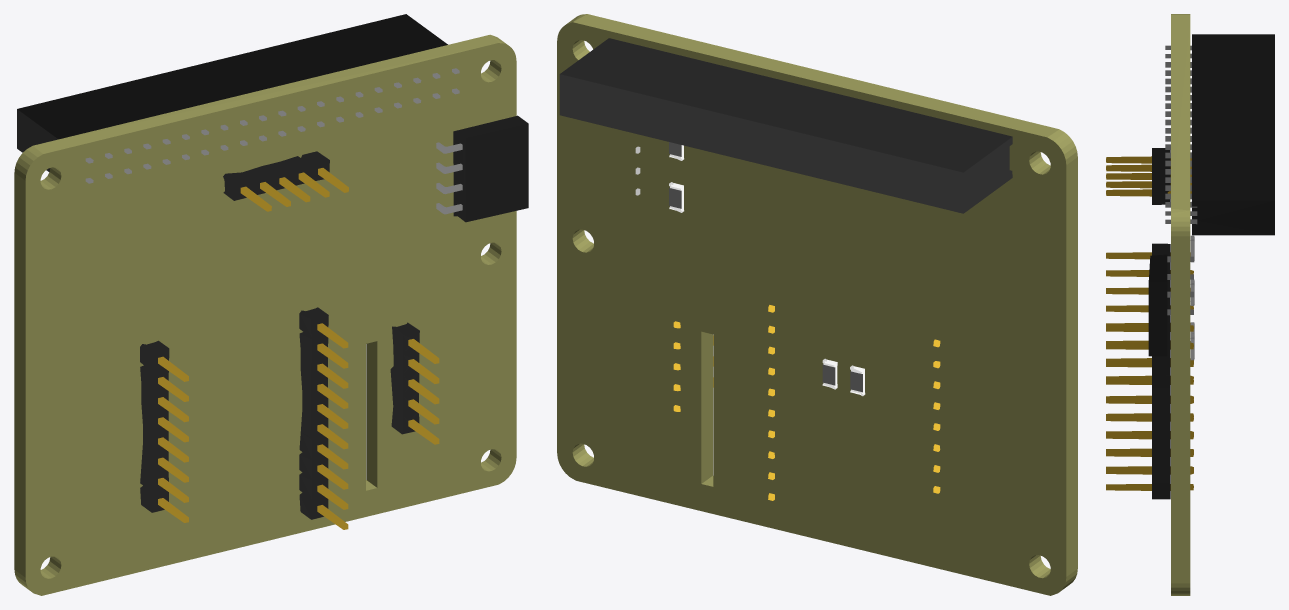
File: OBJ_PCB_BTM.obj
3 views of the same model, side by side, from view 1: azimuth 30°, elevation 25°; view 2: azimuth 150°, elevation 25°; view 3: azimuth 270°, elevation 25° (orthographic). The views are drawn at different scales.
Bounding box in the file's own units: 255 × 219 × 86.75.
